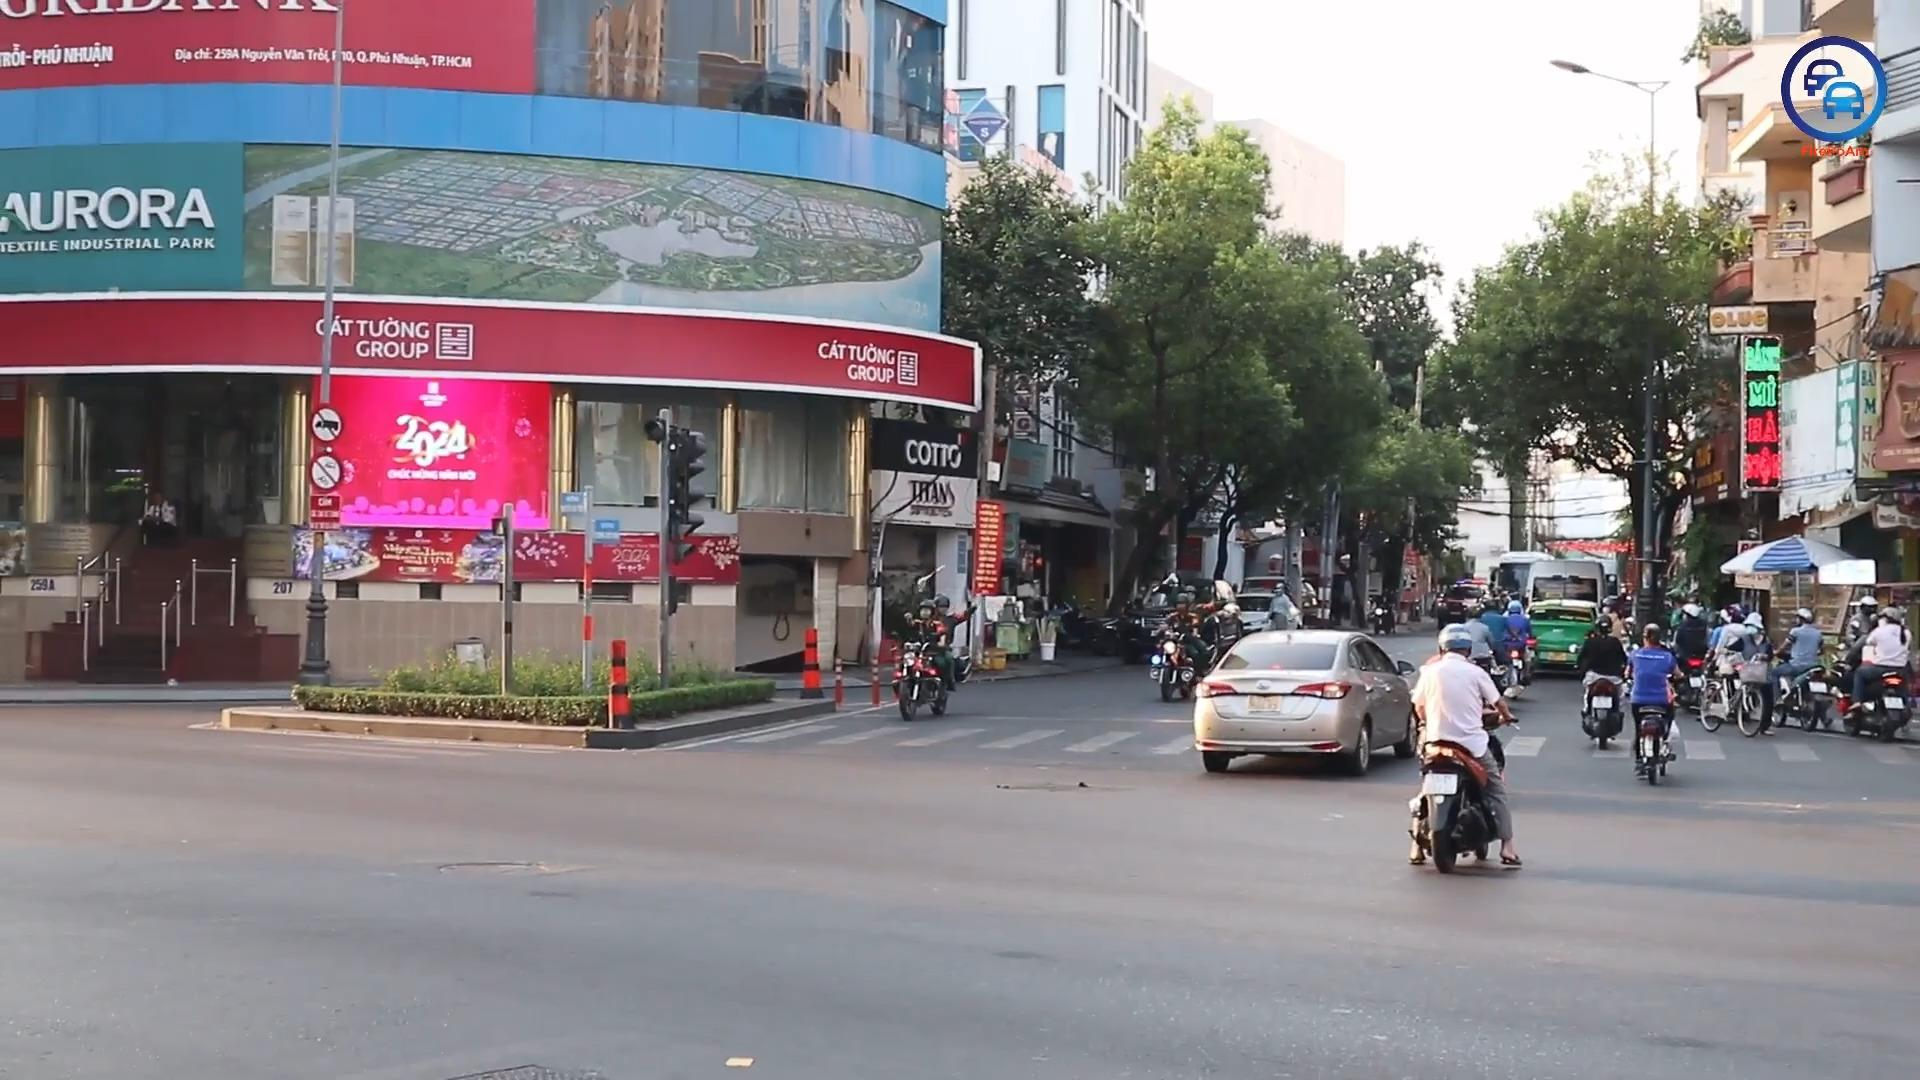bien_so: (1423, 772, 1458, 796), (1245, 692, 1283, 713), (1882, 696, 1905, 710), (1546, 649, 1568, 662), (1591, 695, 1613, 708)
